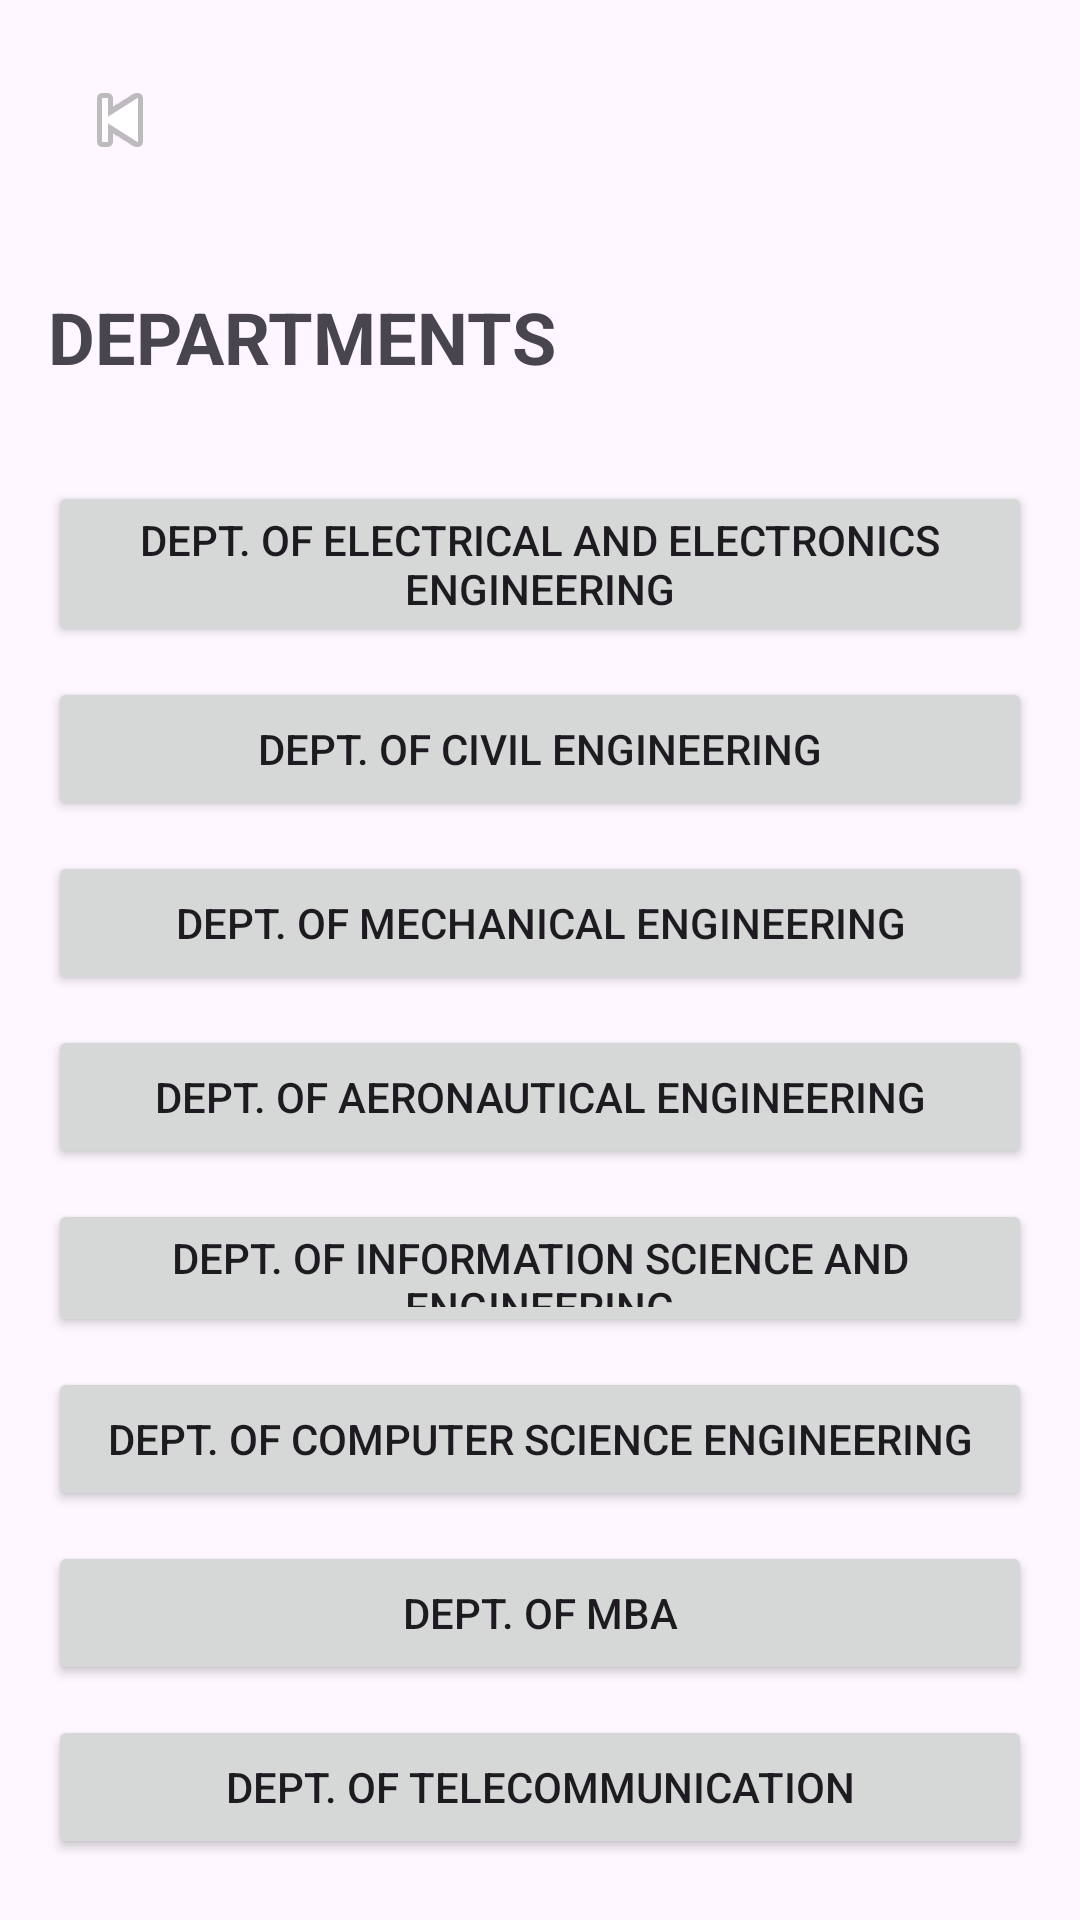

Point at icon controls on the screen. Image size 1080px x 1920px, points as (x,y).
previous: (120,120)
